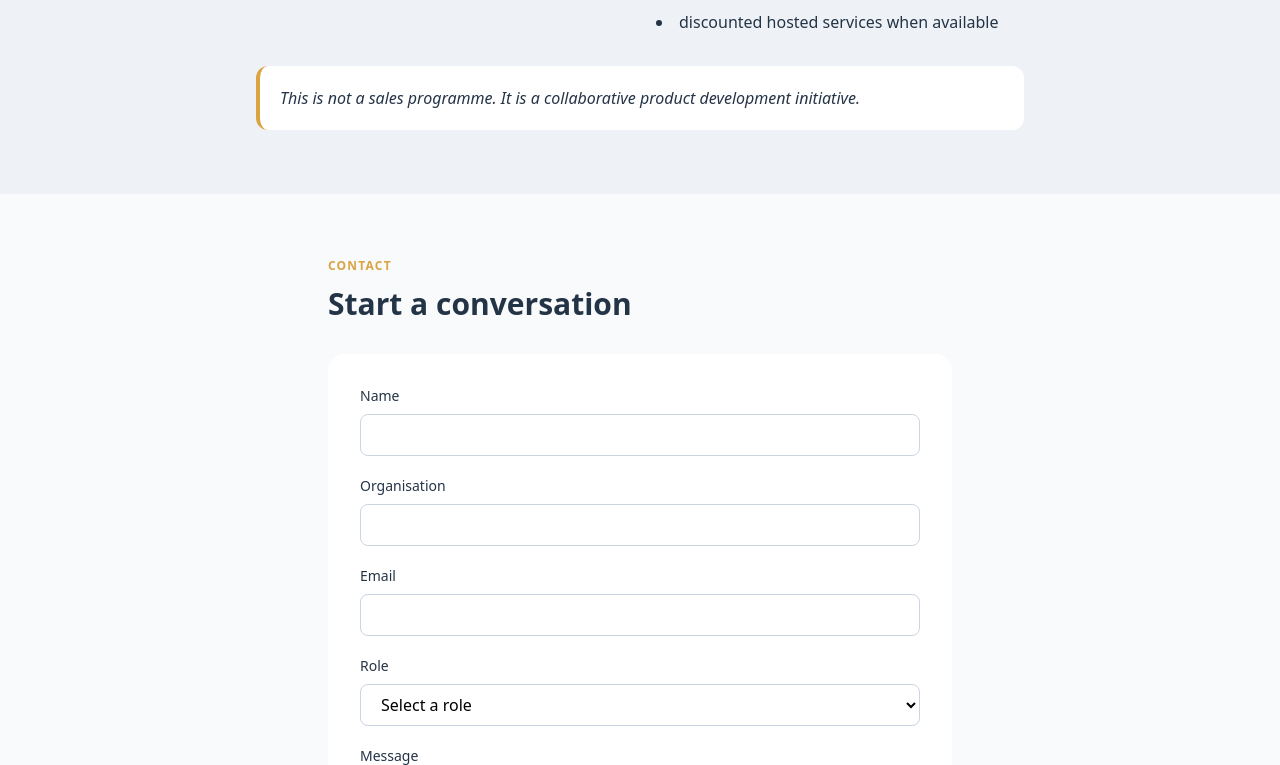
Test: LandingPage › shows an error message when the contact form submission fails
(page scrolled)
Type "Jane Doe" into the field labelled "Name" at coordinates (640, 435), box [360,414,920,456]
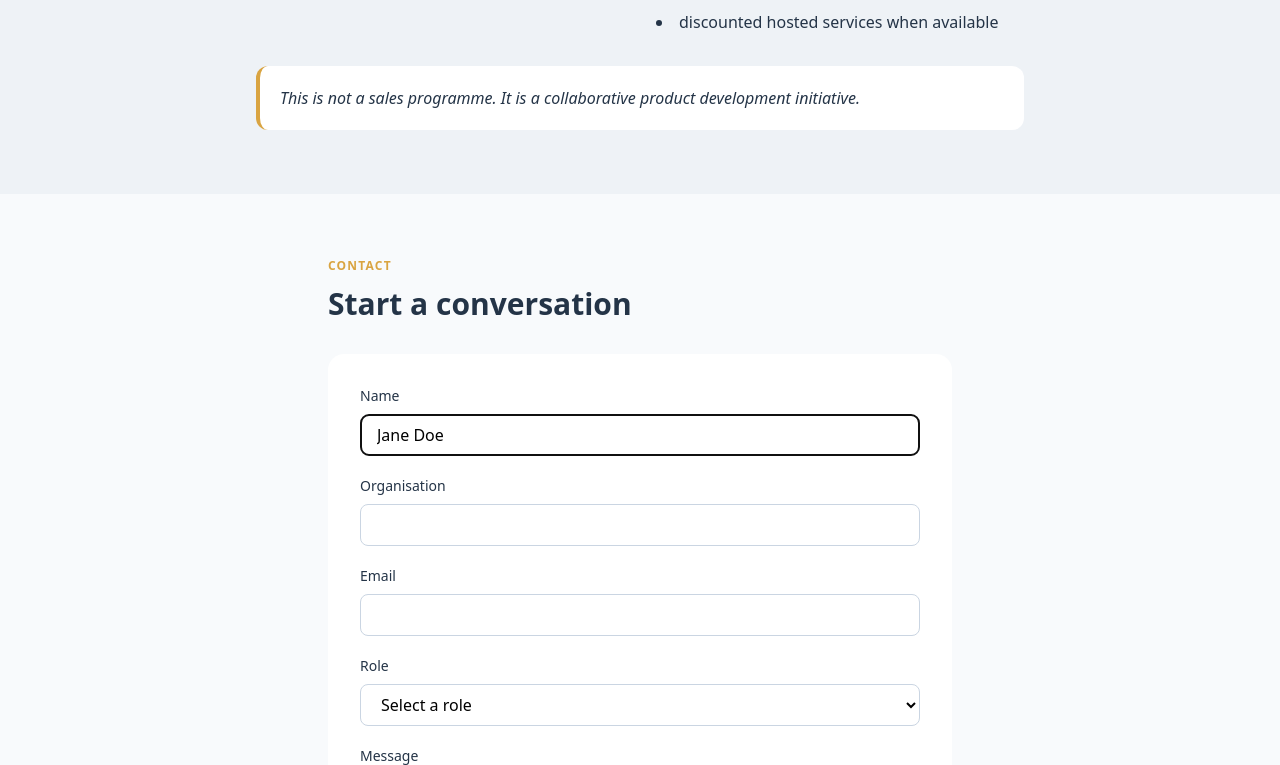
Type "Acme Foundation" into the field labelled "Organisation" at coordinates (640, 525), box [360,504,920,546]
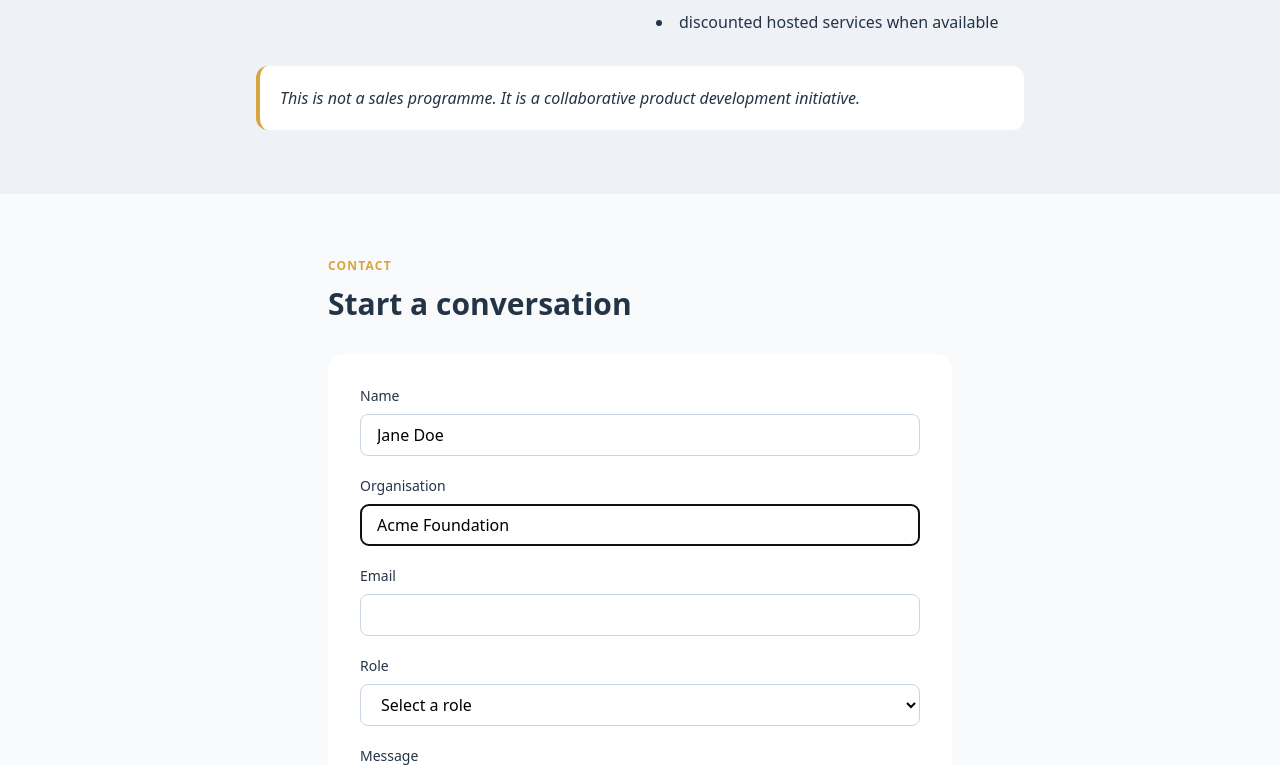
Type "jane@example.org" into the field labelled "Email" at coordinates (640, 615), box [360,594,920,636]
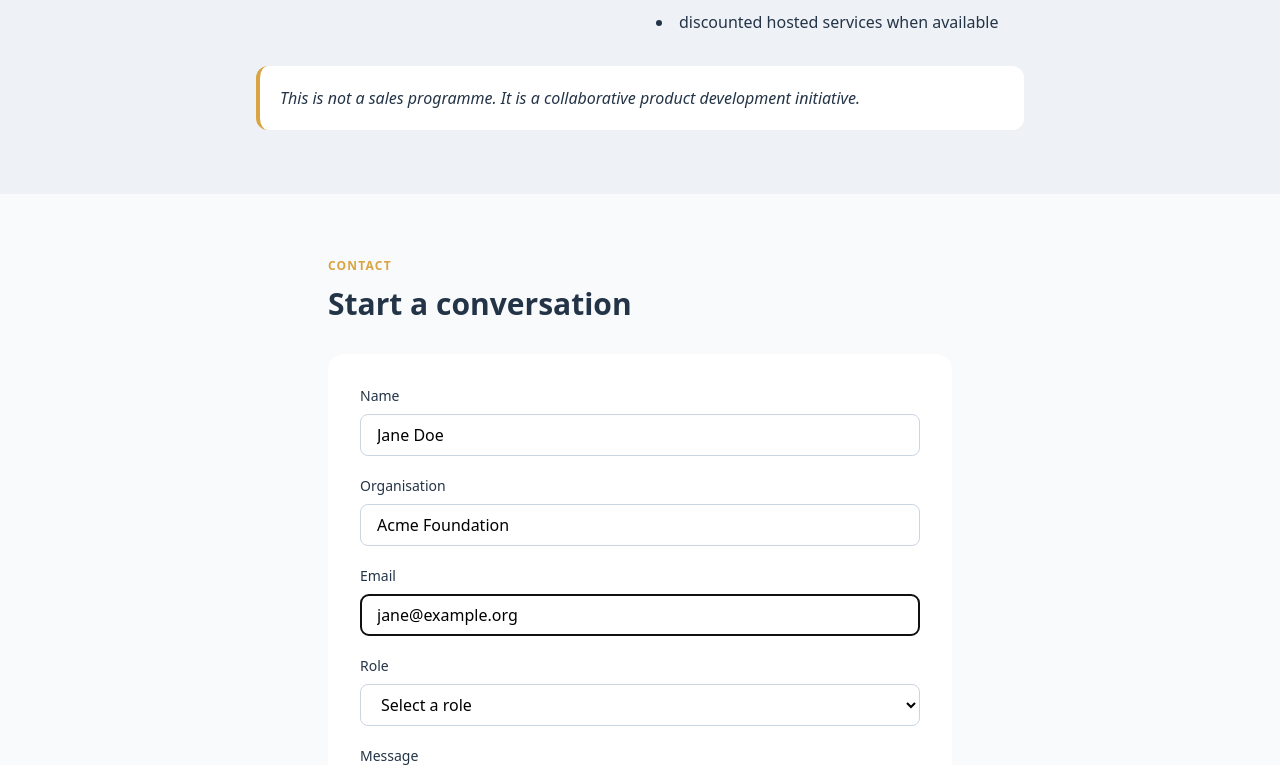
Select "Foundation" in the dropdown labelled "Role" at coordinates (640, 705), box [360,684,920,726]
(page scrolled)
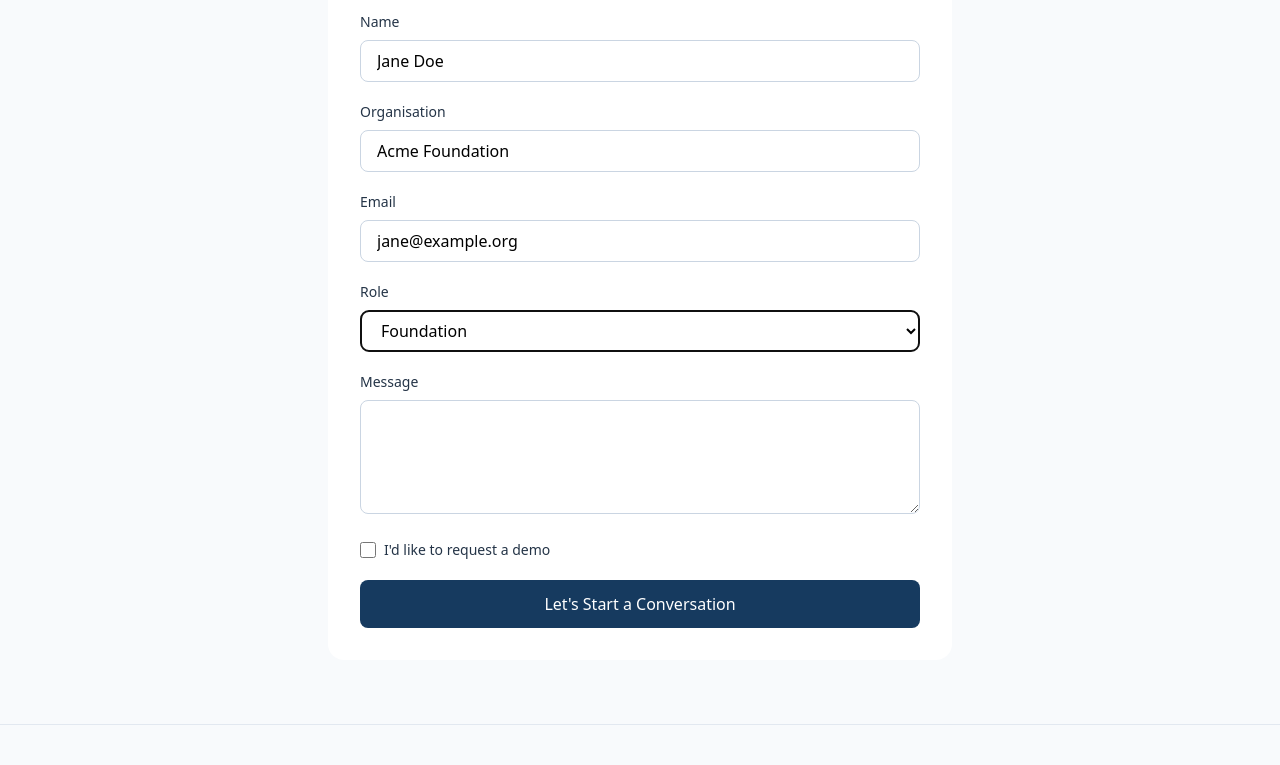
Type "We'd love to talk." into the text box labelled "Message" at coordinates (640, 457), box [360,400,920,514]
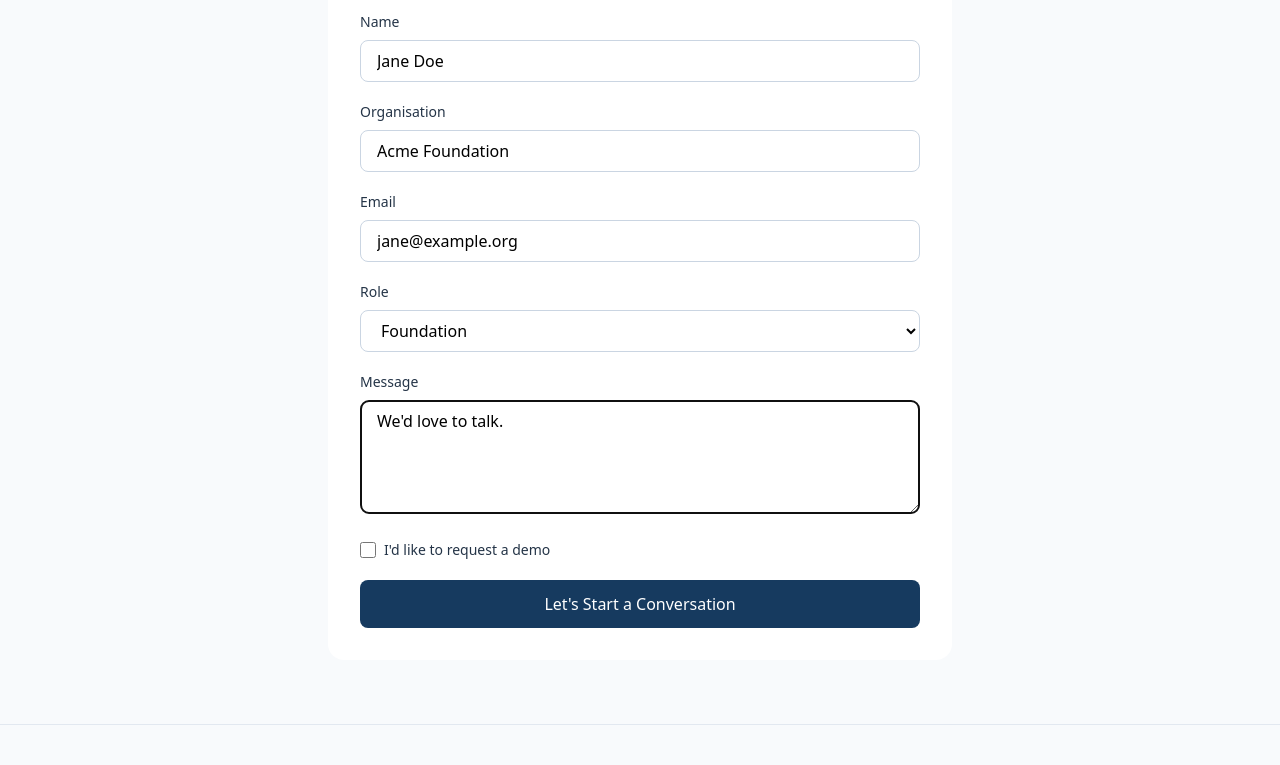
Click the button "Let's Start a Conversation" at coordinates (640, 604), box [360,580,920,628]
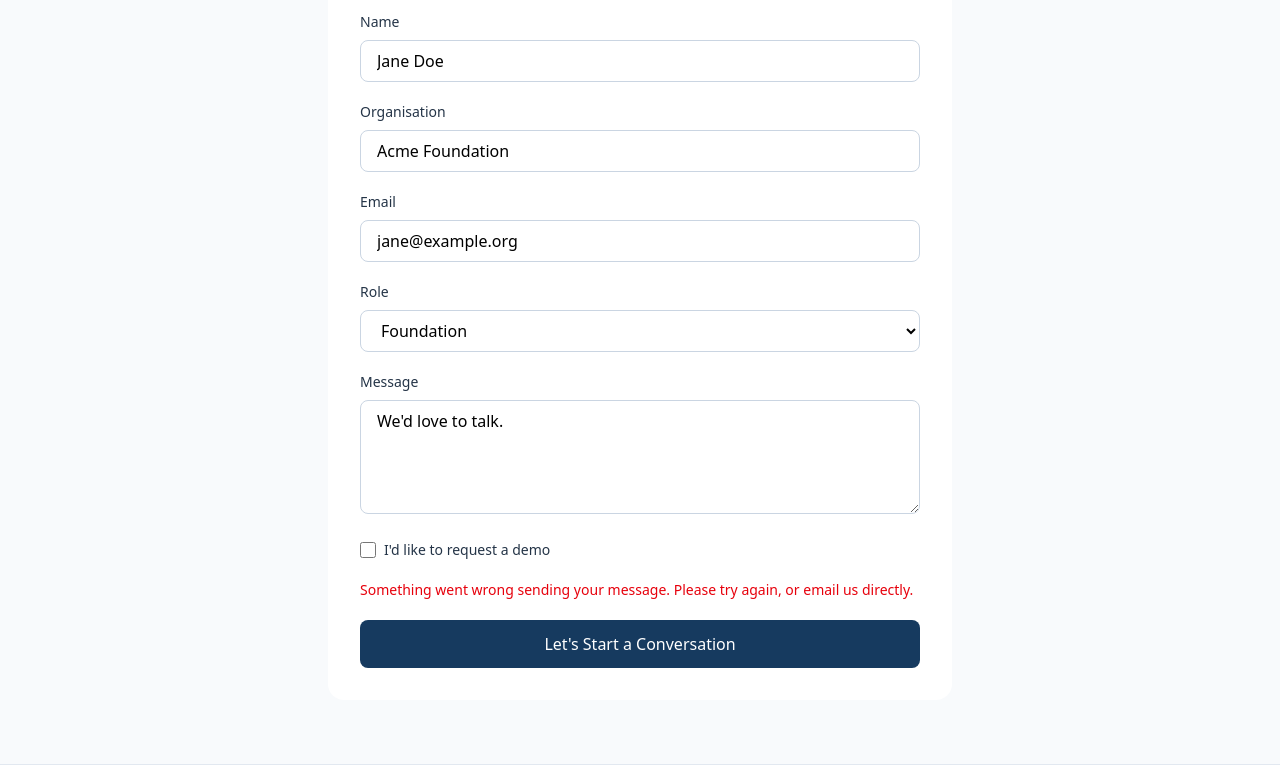
Check: the text "Something went wrong sending your message" is shown, box [360,580,913,599]
